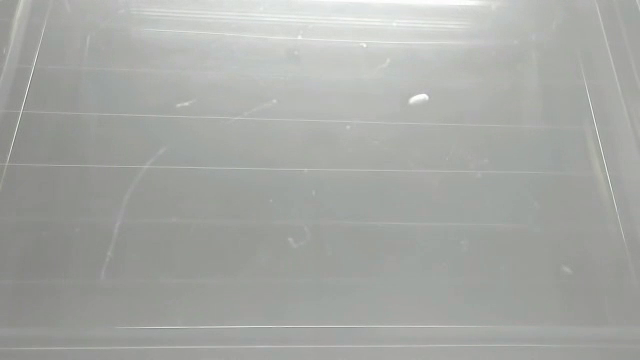alpha: (407, 91, 430, 108), (559, 262, 578, 277)
